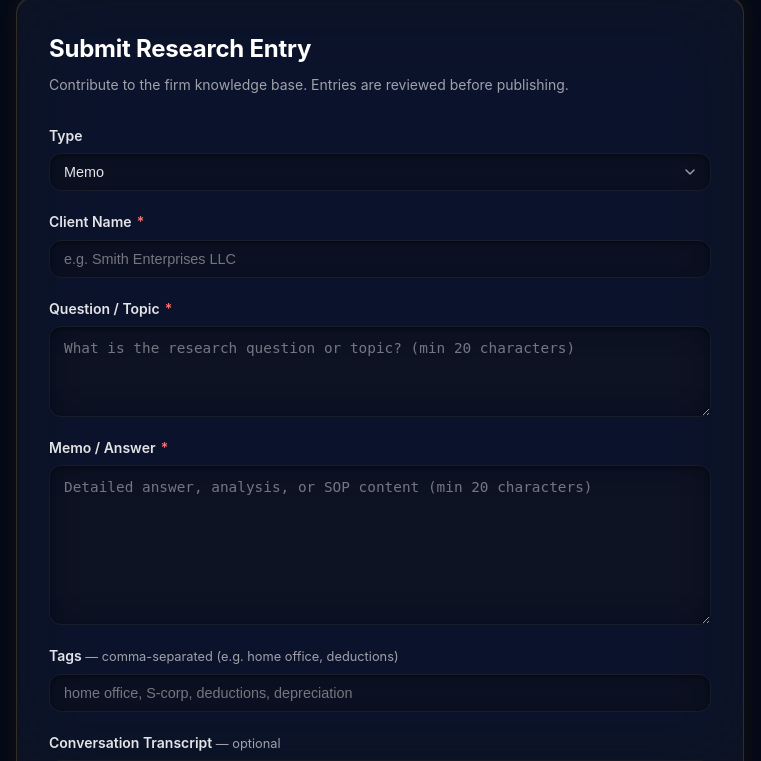
Test: SubmissionForm component › form validation › shows error when question is too short (under 20 chars)
Type "Test Client" into the field labelled "Client Name *". click: (380,259)
box: [49,240,711,278]
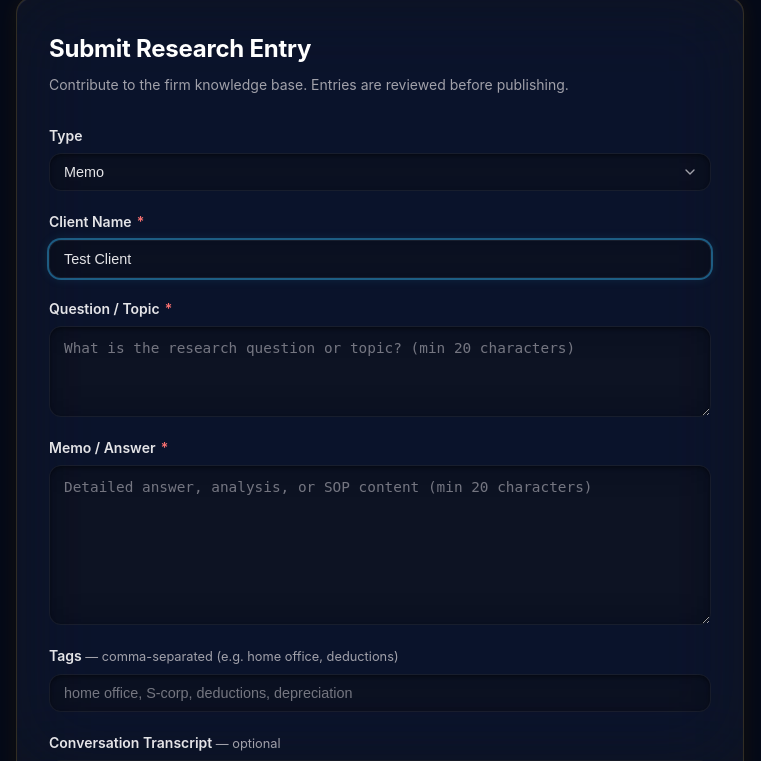
Type "Too short" into the text box labelled "Question / Topic *". click: (380,372)
box: [49,326,711,417]
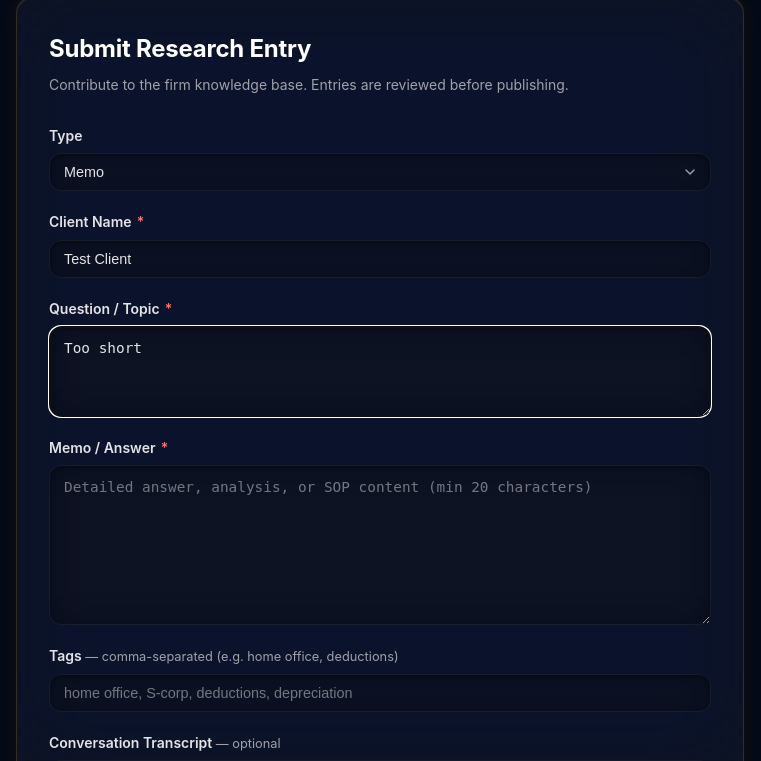
Type "This memo is long enough to pass the minimum character requirement." into the text box labelled "Memo / Answer *". click: (380,545)
box: [49,465,711,626]
(page scrolled)
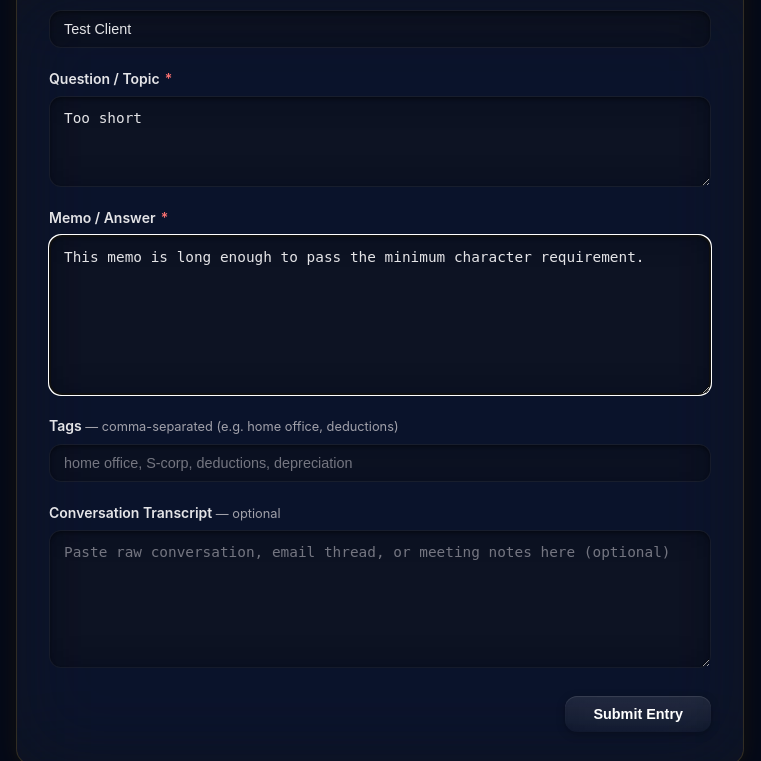
Click the button "Submit Entry". click: (638,714)
box: [565,696,711,732]
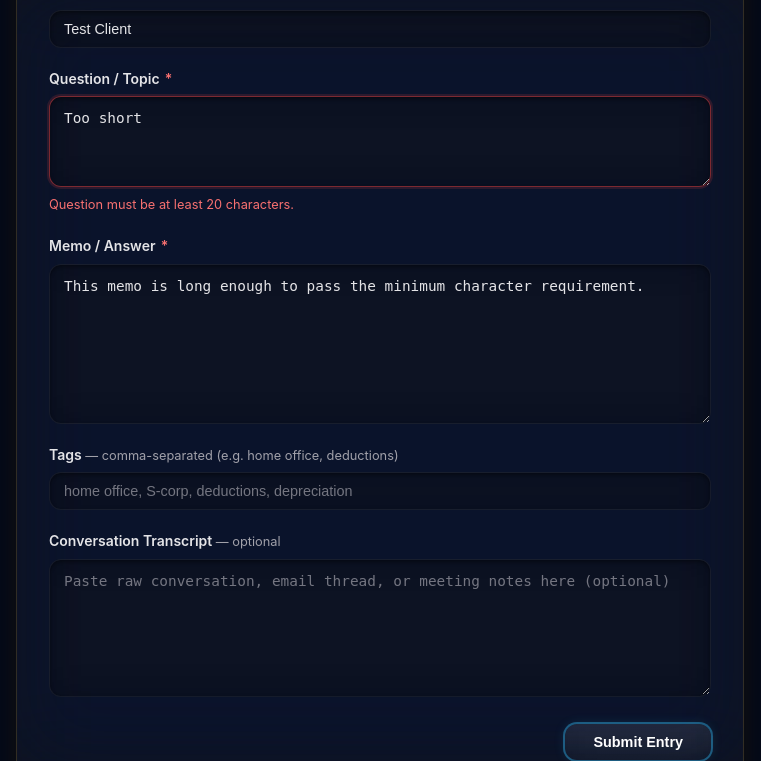
Expected: the text "Question must be at least 20 characters." is shown, [49,197,294,212]
